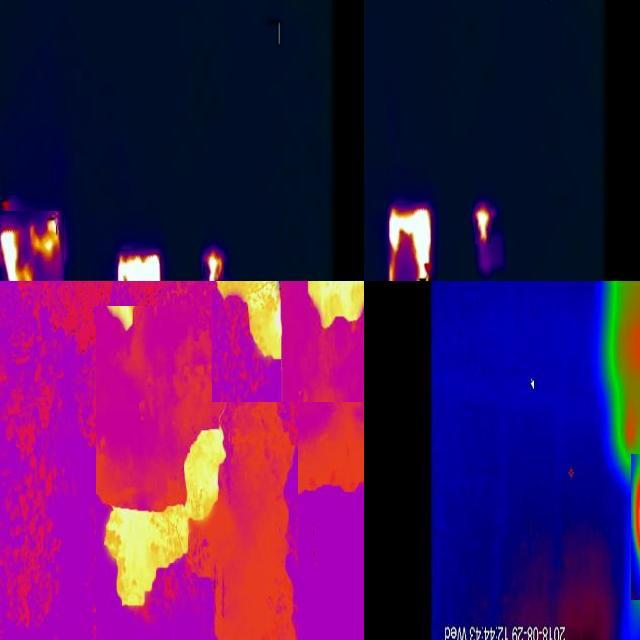fire: (97, 423, 234, 640), (215, 282, 365, 364), (1, 210, 64, 282), (387, 203, 435, 282), (117, 248, 163, 282), (631, 454, 640, 600), (109, 299, 139, 339), (203, 249, 224, 282), (475, 203, 491, 244)
